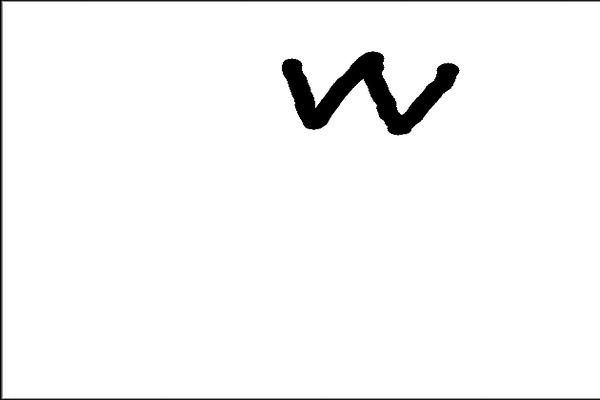w: (271, 36, 471, 150)
